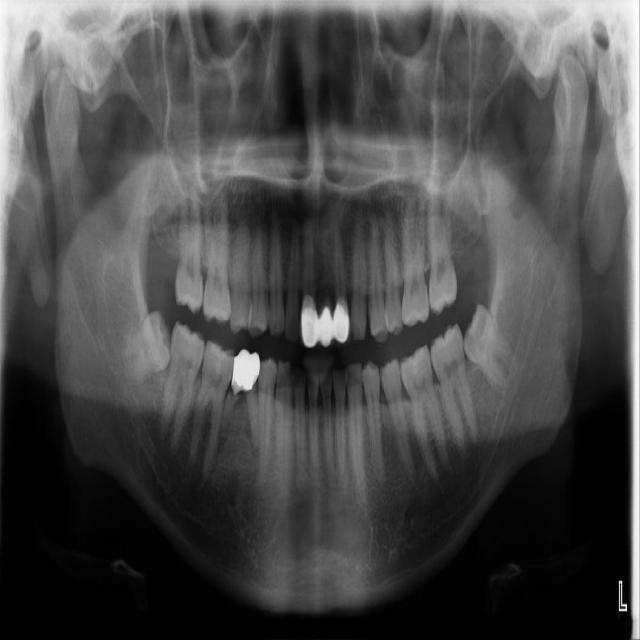52: (299, 301, 352, 351), (197, 335, 239, 395), (231, 348, 263, 389)
BioHorizons Implant: (425, 186, 458, 316)
Biomet 3i Implant: (446, 302, 531, 399)
Blue Sky Bio Implant: (425, 322, 481, 452)
Caries: (175, 171, 203, 313)
Implant: (155, 319, 210, 448)
Keystone Dental Implant: (106, 307, 185, 385)
